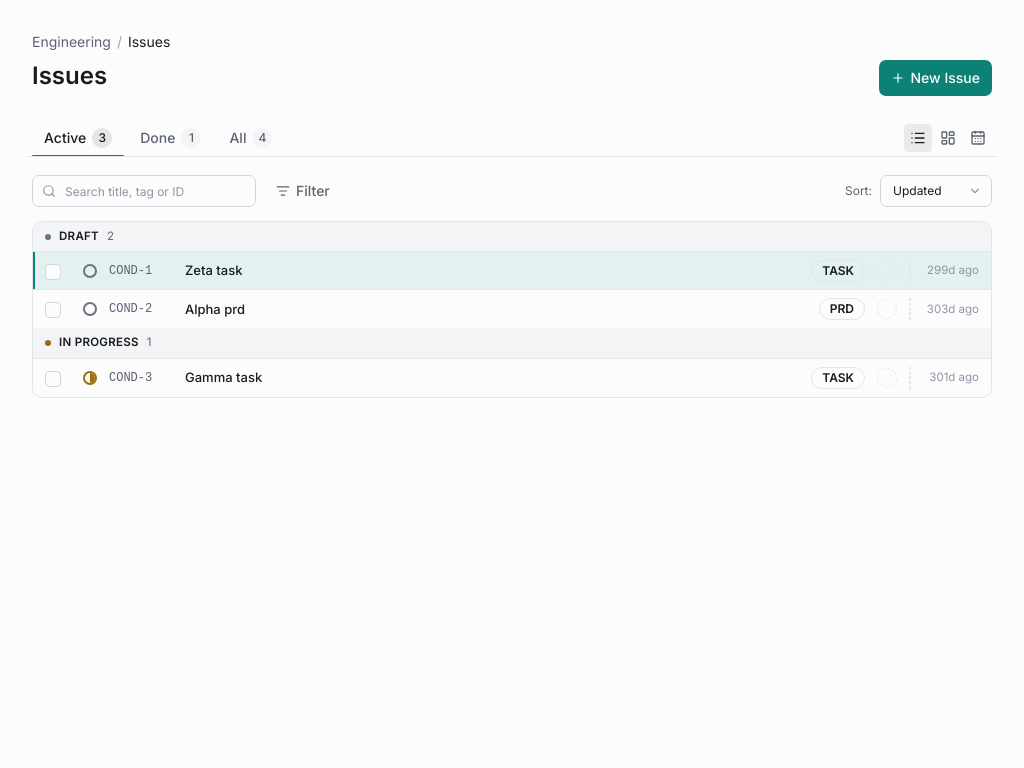
Test: bulk results and selection in every view › selects rows from a checkbox in the list and shows the bulk bar
The image size is (1024, 768).
Click the checkbox named "Select Zeta task" next to "COND-1" at (53, 272), box x1=45 y1=264 x2=61 y2=280
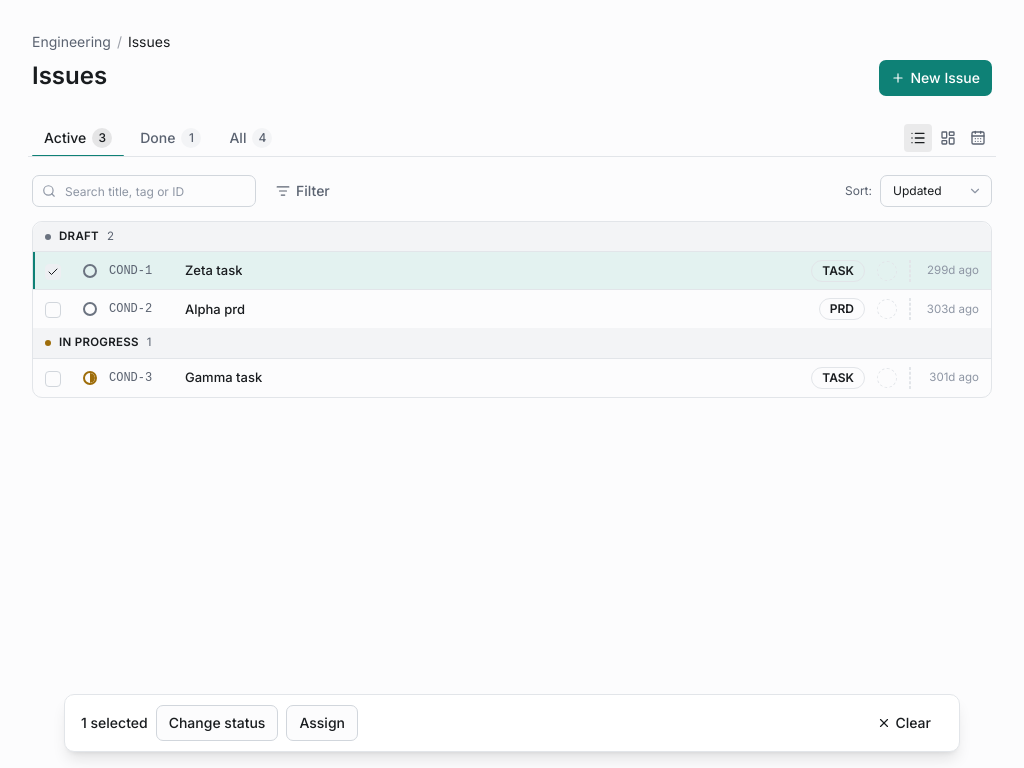
Now the text "1 selected" is shown, box x1=81 y1=713 x2=148 y2=733
